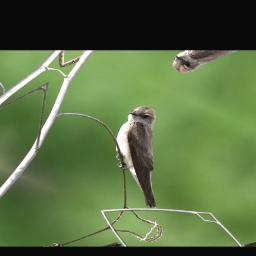Swallow: (76, 101, 217, 211)
